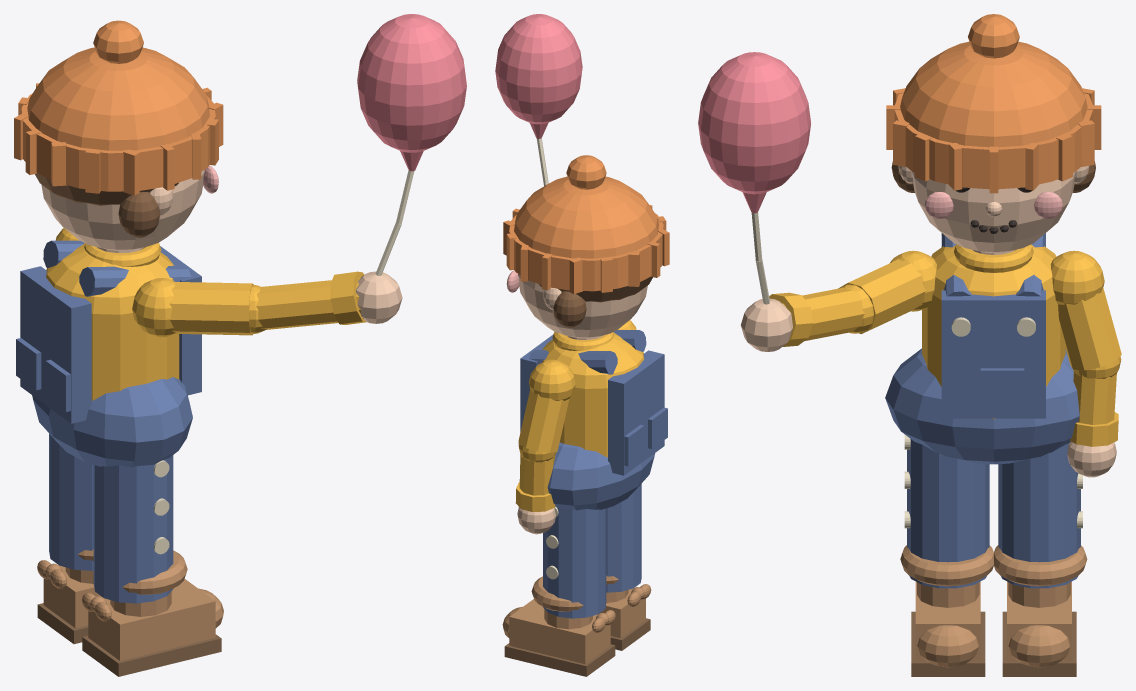
File: 08-kid-with-balloon.glb
3 renders of one model, left to right at view 1: azimuth 30°, elevation 25°; view 2: azimuth 150°, elevation 25°; view 3: azimuth 270°, elevation 25°, orthographic. The views are drawn at different scales.
Visible parts, largest first — view 1: BeanieDome, Balloon, LegR, Pelvis, BackPanel, BootR_Foot, TorsoShirt, BeanieCuff, LegL, Head, UpperArmR, ChestShirt (+21 smaller); view 2: BeanieDome, Balloon, LegL, Pelvis, BackPanel, BootL_Foot, BeanieCuff, LegR, Head, TorsoShirt, ChestShirt, UpperArmL (+27 smaller); view 3: BeanieDome, Balloon, Bib, Pelvis, LegR, LegL, Head, BeanieCuff, UpperArmL, ChestShirt, UpperArmR, TorsoShirt (+27 smaller).
Part boxes in pixels (x1=…): BeanieDome: x1=27, y1=47, x2=209, y2=150; Balloon: x1=357, y1=14, x2=466, y2=152; LegR: x1=93, y1=455, x2=173, y2=603; Pelvis: x1=32, y1=377, x2=192, y2=467; BackPanel: x1=20, y1=266, x2=91, y2=423; BootR_Foot: x1=88, y1=579, x2=215, y2=660; TorsoShirt: x1=91, y1=313, x2=179, y2=400; BeanieCuff: x1=21, y1=93, x2=215, y2=191; LegL: x1=49, y1=433, x2=93, y2=570; Head: x1=41, y1=170, x2=204, y2=250; UpperArmR: x1=169, y1=282, x2=253, y2=335; ChestShirt: x1=46, y1=243, x2=173, y2=314; BeanieDome: x1=514, y1=176, x2=658, y2=258; Balloon: x1=495, y1=14, x2=582, y2=124; LegL: x1=543, y1=507, x2=606, y2=618; Pelvis: x1=547, y1=442, x2=655, y2=510; BackPanel: x1=608, y1=350, x2=664, y2=475; BootL_Foot: x1=509, y1=599, x2=610, y2=664; BeanieCuff: x1=509, y1=213, x2=663, y2=291; LegR: x1=606, y1=484, x2=641, y2=592; Head: x1=518, y1=274, x2=647, y2=338; TorsoShirt: x1=560, y1=387, x2=607, y2=457; ChestShirt: x1=542, y1=332, x2=644, y2=388; UpperArmL: x1=518, y1=389, x2=569, y2=452; BeanieDome: x1=900, y1=41, x2=1087, y2=147; Balloon: x1=698, y1=52, x2=810, y2=194; Bib: x1=941, y1=290, x2=1045, y2=418; Pelvis: x1=885, y1=348, x2=1079, y2=464; LegR: x1=907, y1=439, x2=989, y2=588; LegL: x1=998, y1=443, x2=1080, y2=588; Head: x1=912, y1=171, x2=1075, y2=253; BeanieCuff: x1=894, y1=93, x2=1093, y2=189; UpperArmL: x1=1058, y1=287, x2=1121, y2=370; ChestShirt: x1=931, y1=245, x2=1056, y2=299; UpperArmR: x1=838, y1=259, x2=926, y2=333; TorsoShirt: x1=922, y1=294, x2=1065, y2=419.
Size of the model in its own units: 0.857 by 1.72 by 0.9743.
